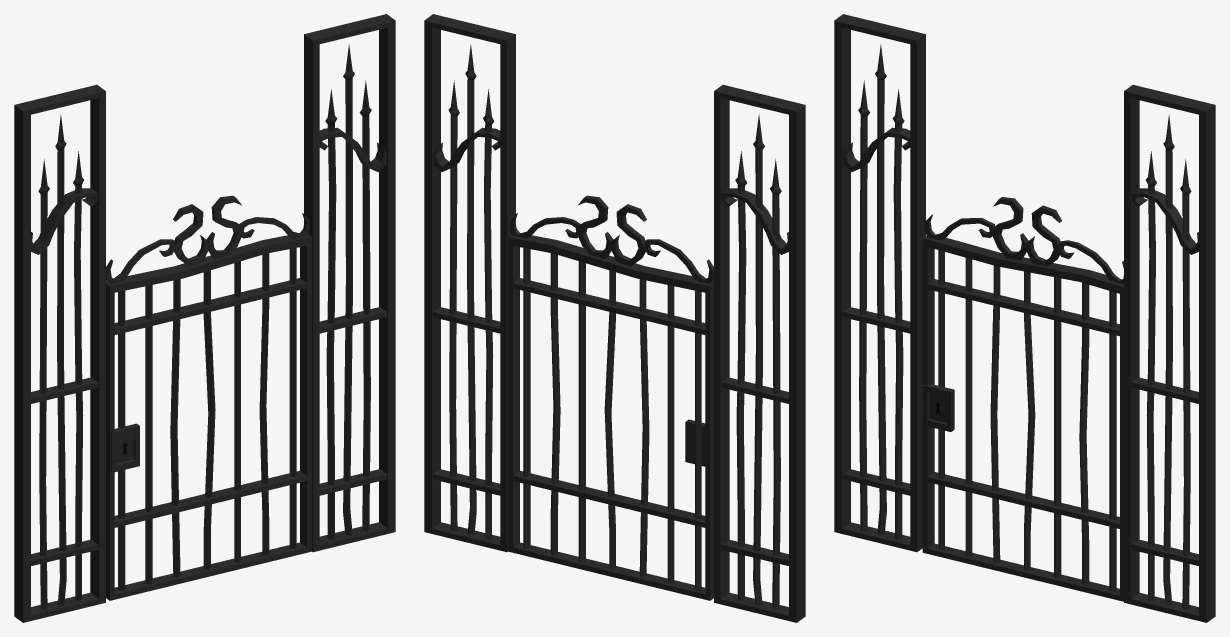
The model's file is SM_Bld_Fence_Gate_Small_01.fbx.
The picture shows the model from 3 angles, left to right: view 1: azimuth 30°, elevation 25°; view 2: azimuth 150°, elevation 25°; view 3: azimuth 330°, elevation 25°; orthographic projection.
Visible parts, largest first — view 1: SM_Bld_Fence_Gate_Small_01; view 2: SM_Bld_Fence_Gate_Small_01; view 3: SM_Bld_Fence_Gate_Small_01.
Boxes of the visible parts, bbox=[...] form: SM_Bld_Fence_Gate_Small_01: bbox=[14, 14, 395, 622]; SM_Bld_Fence_Gate_Small_01: bbox=[424, 14, 805, 622]; SM_Bld_Fence_Gate_Small_01: bbox=[834, 14, 1215, 622].
Size of the model in its own units: 250 by 328 by 10.43.
